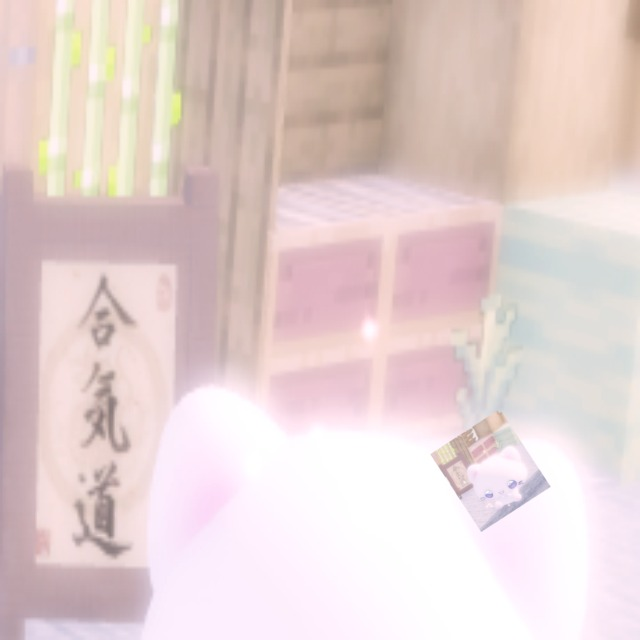urso_branco: (430, 409, 551, 532)
